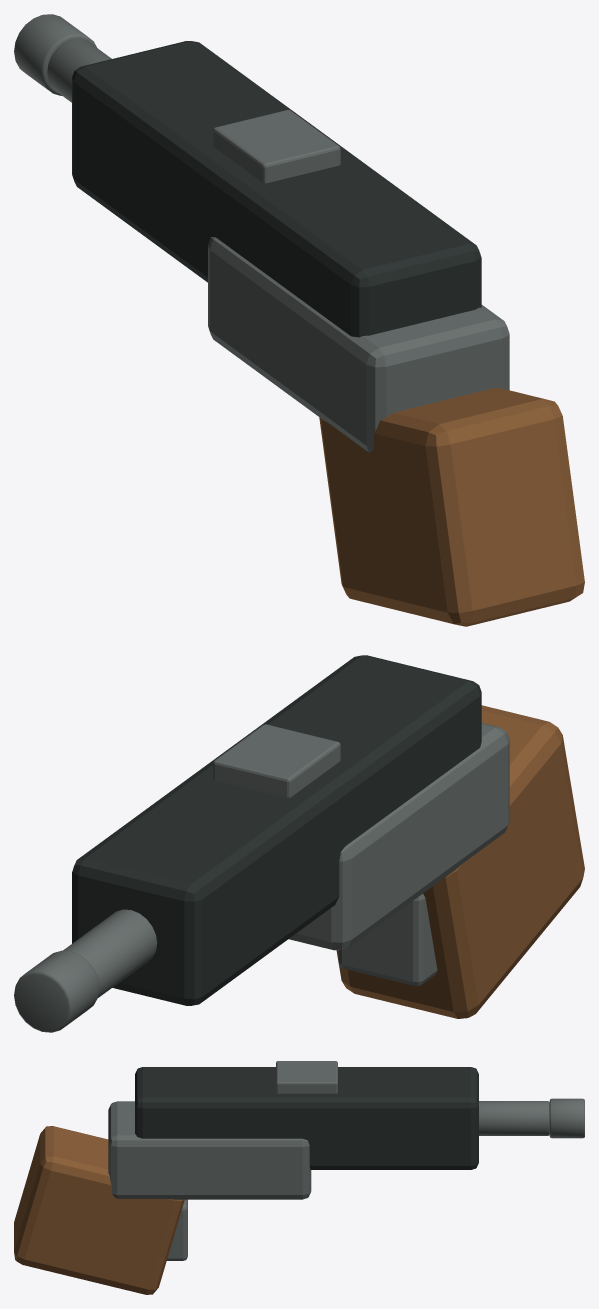
The picture shows the model from 3 angles, top to bottom: view 1: azimuth 30°, elevation 25°; view 2: azimuth 150°, elevation 25°; view 3: azimuth 270°, elevation 25°; orthographic projection. The views are drawn at different scales.
Visible parts, largest first — view 1: Slide, Grip, Frame, OpticRiser, Muzzle, Barrel; view 2: Slide, Grip, Frame, OpticRiser, MagazineBody, Muzzle, Barrel; view 3: Slide, Grip, Frame, Barrel, OpticRiser, Muzzle, MagazineBody.
Part boxes in pixels (left/top/right/bottom): Slide: left=72, top=41, right=481, bottom=337; Grip: left=319, top=387, right=584, bottom=626; Frame: left=208, top=237, right=509, bottom=452; OpticRiser: left=213, top=110, right=340, bottom=183; Muzzle: left=14, top=14, right=96, bottom=95; Barrel: left=47, top=39, right=111, bottom=102; Slide: left=72, top=655, right=481, bottom=1005; Grip: left=336, top=705, right=584, bottom=1018; Frame: left=288, top=723, right=509, bottom=950; OpticRiser: left=213, top=724, right=340, bottom=797; MagazineBody: left=338, top=894, right=437, bottom=985; Muzzle: left=14, top=950, right=99, bottom=1032; Barrel: left=63, top=909, right=157, bottom=997; Slide: left=135, top=1067, right=478, bottom=1169; Grip: left=14, top=1126, right=184, bottom=1294; Frame: left=108, top=1101, right=311, bottom=1199; Barrel: left=479, top=1101, right=549, bottom=1135; OpticRiser: left=276, top=1061, right=337, bottom=1093; Muzzle: left=549, top=1098, right=584, bottom=1138; MagazineBody: left=167, top=1199, right=187, bottom=1260.
Size of the model in its own units: 0.22 by 0.5203 by 1.29.
